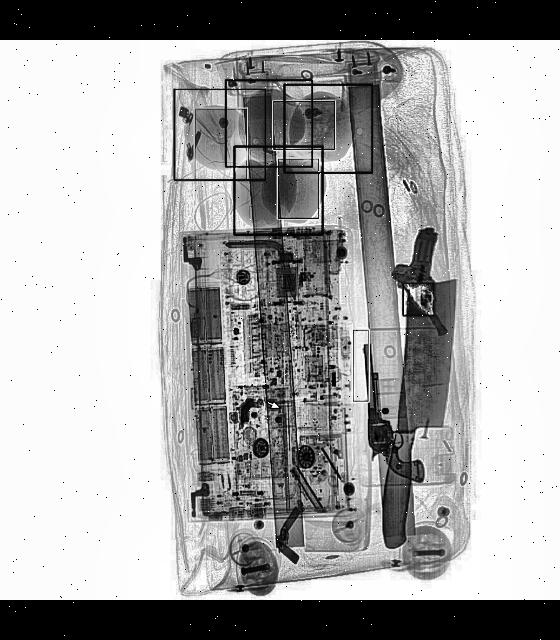Gun: (378, 224, 492, 338), (359, 342, 425, 488)
Knife: (375, 275, 463, 555)
